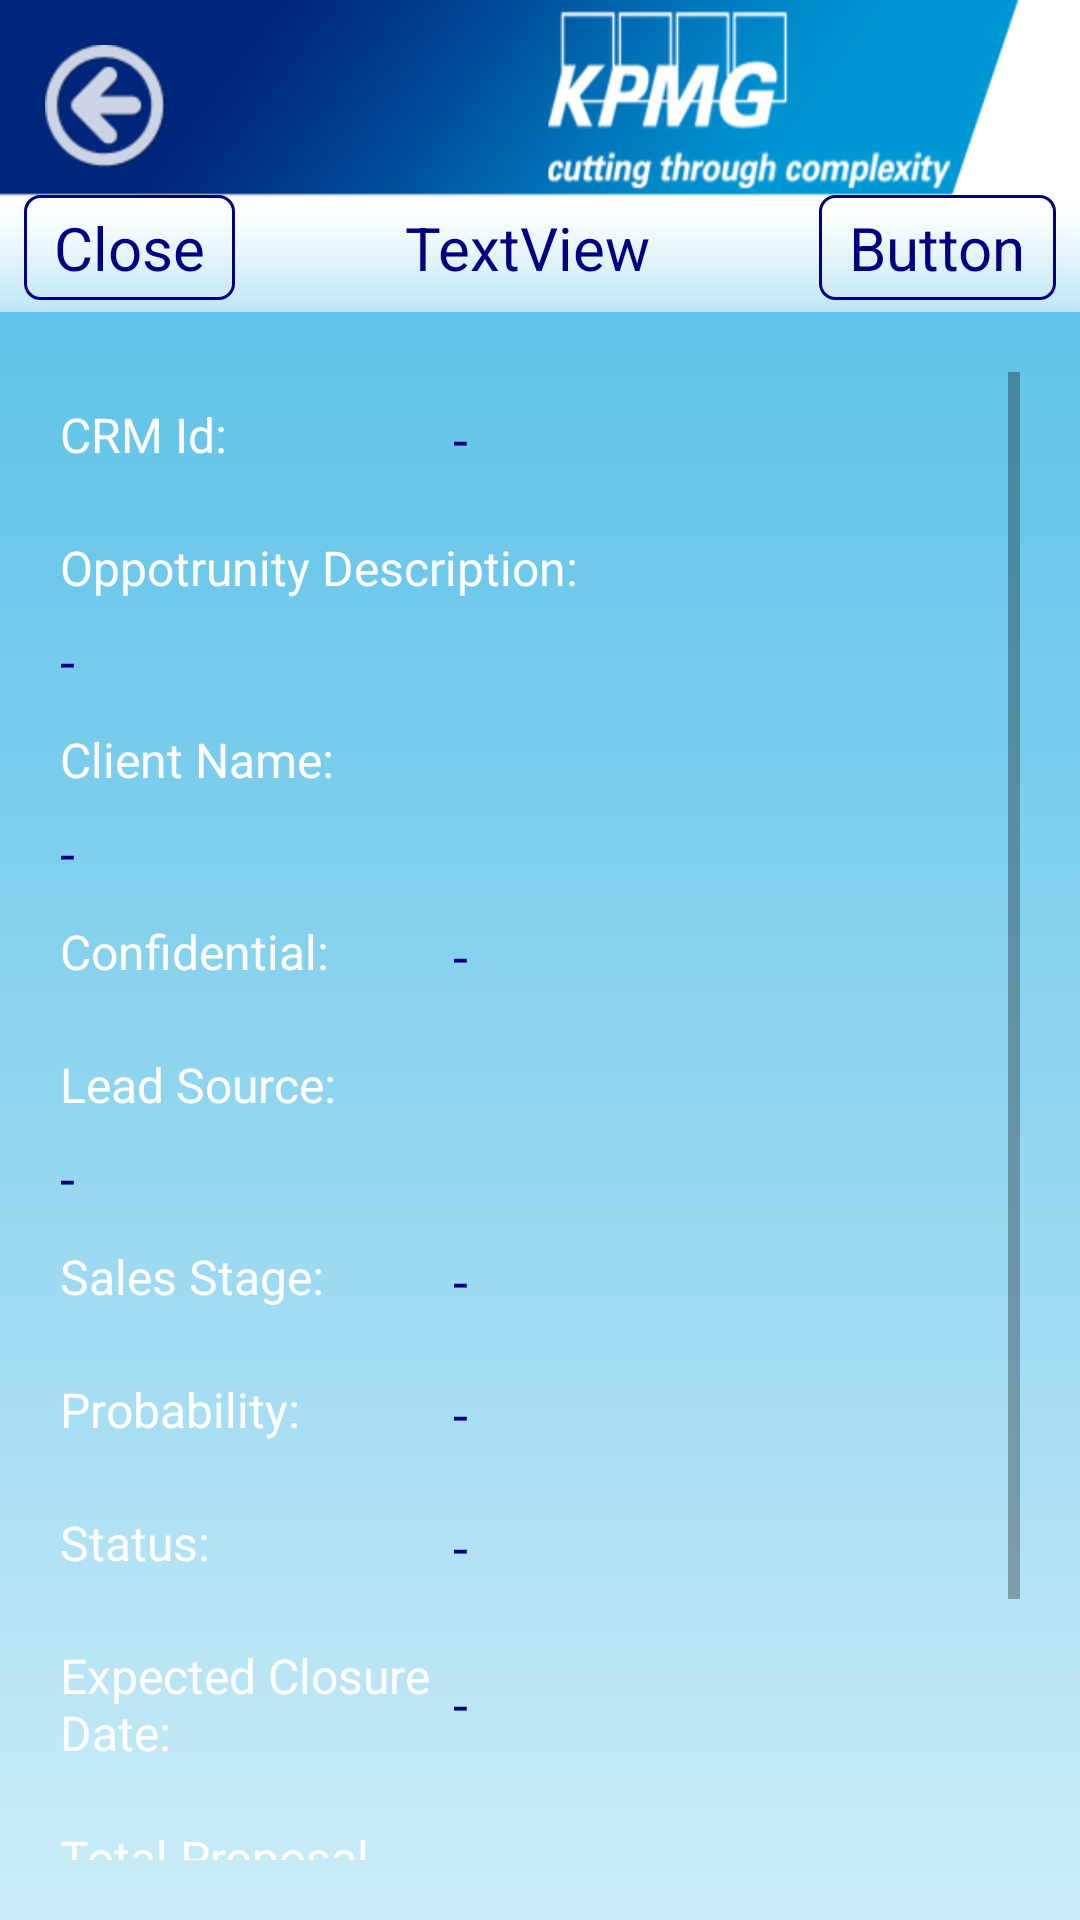

Where to tap for icons on this 1080w x 1920h app screen, as (x,y):
back: (105,106)
